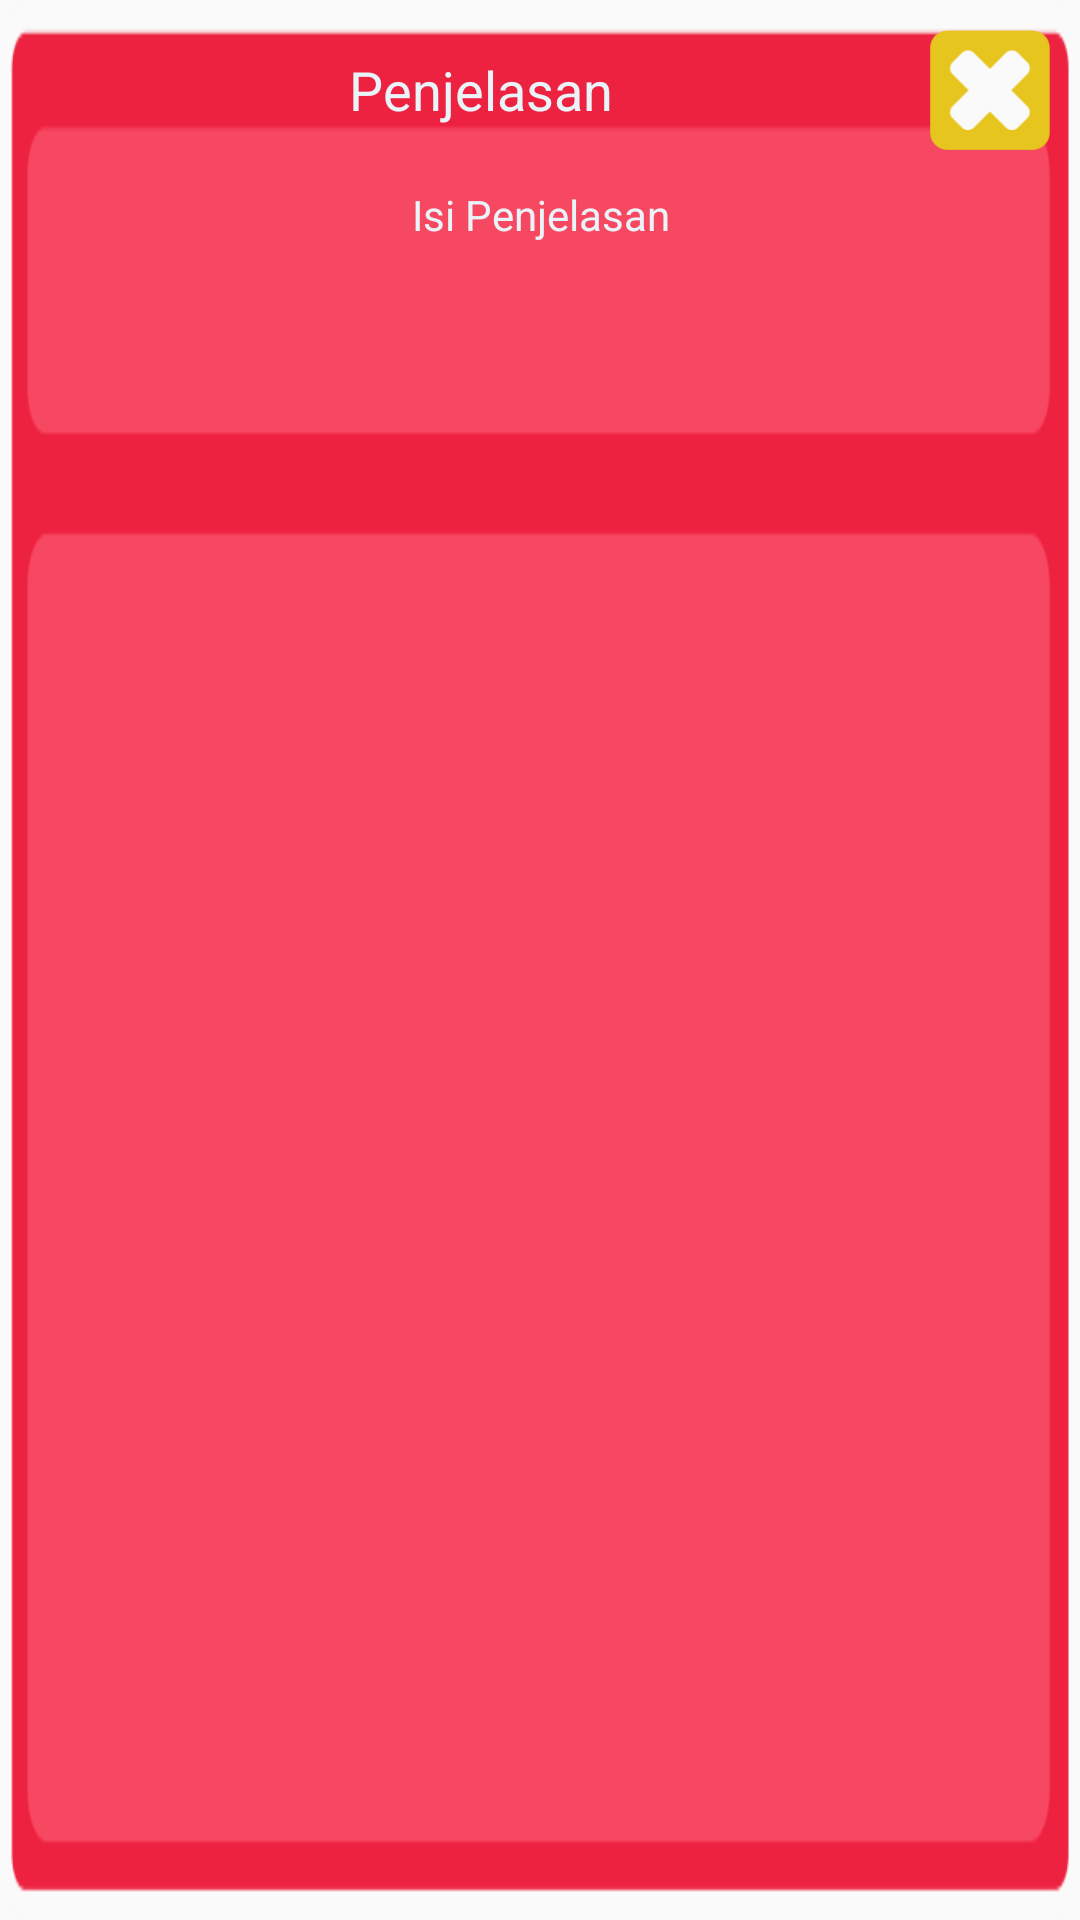

Point at icon controls on the screen. Image size 1080x1920, points as (x,y).
tutup: (990,90)
